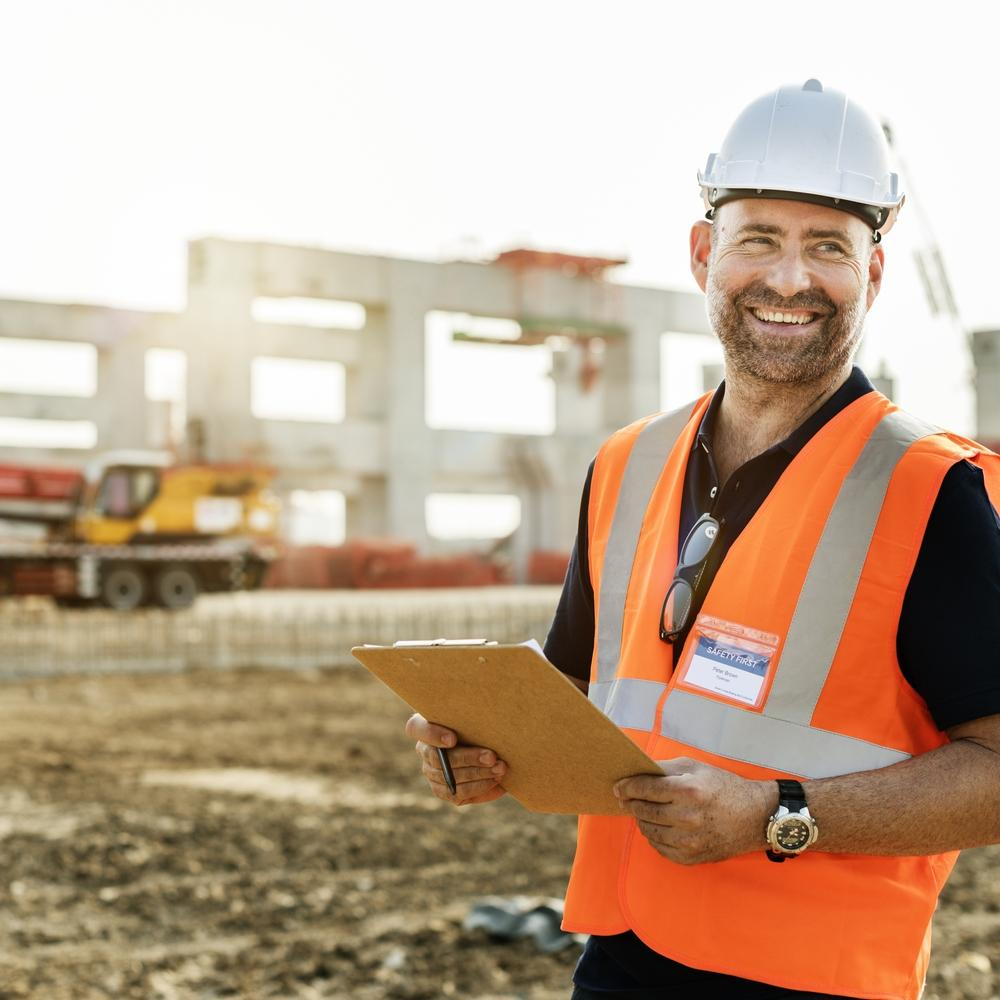helmet: (697, 79, 911, 228)
wear: (561, 409, 974, 974)
